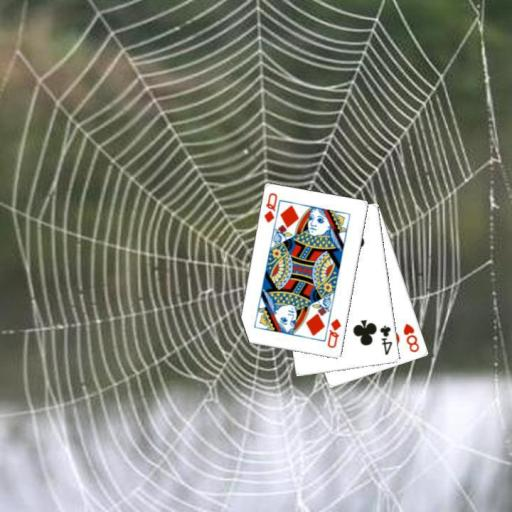4C: (377, 322, 394, 357)
8H: (400, 320, 421, 354)
QD: (324, 316, 343, 350), (261, 190, 279, 225)
